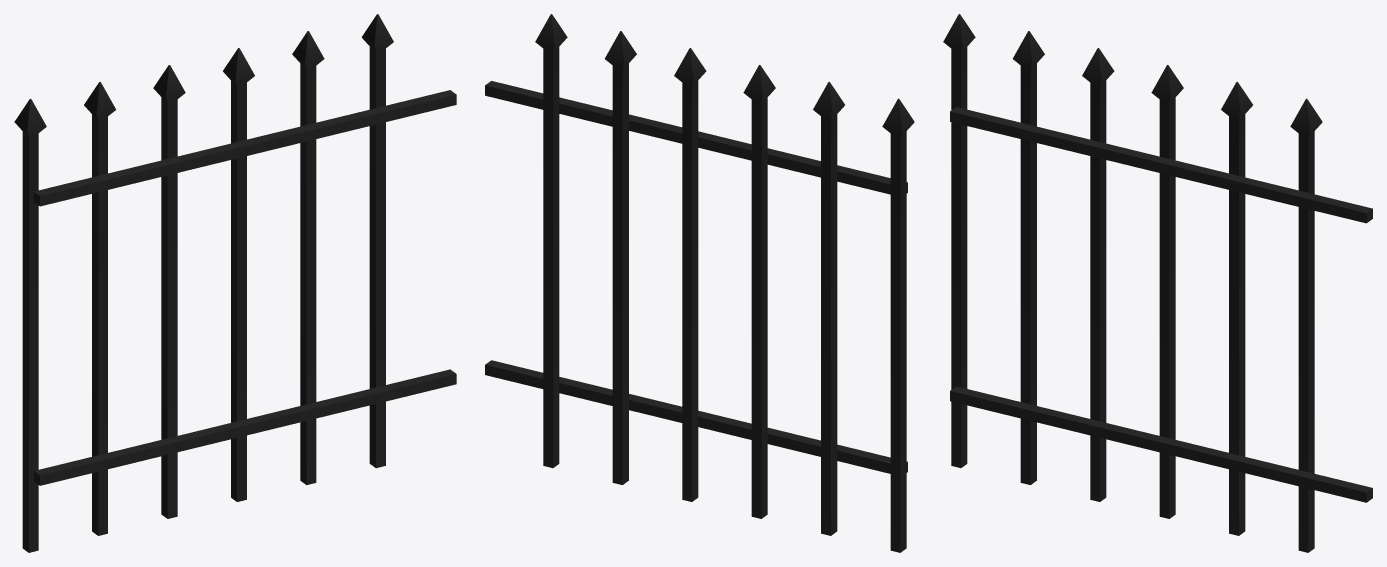
The model's file is gg_Fence.FBX.
3 views of the same model, side by side, from view 1: azimuth 30°, elevation 25°; view 2: azimuth 150°, elevation 25°; view 3: azimuth 330°, elevation 25° (orthographic).
Parts seen in each view (by area): view 1: gg_Fence; view 2: gg_Fence; view 3: gg_Fence.
Part boxes in pixels (x1,y1,x2,y2): gg_Fence: (14,14,456,552); gg_Fence: (485,14,914,552); gg_Fence: (943,14,1372,552).
Size of the model in its own units: 132 by 133 by 8.5.
Materials: 1 (1 with a texture image).
